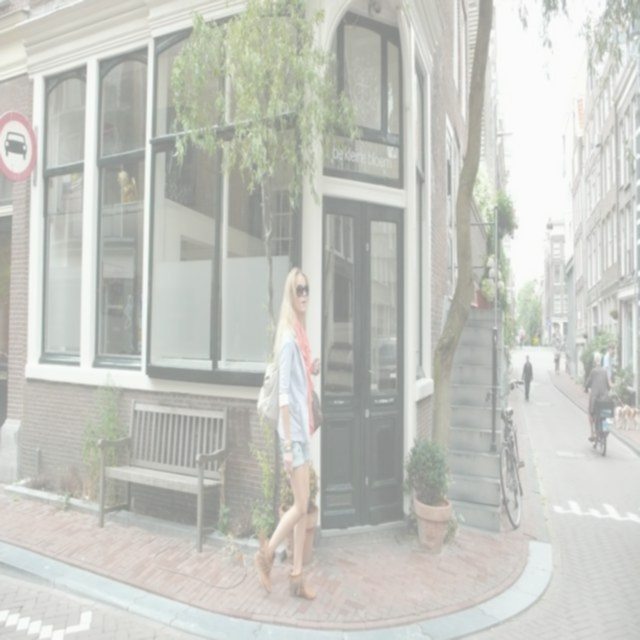pessoa: (252, 264, 326, 602), (582, 351, 612, 443), (520, 354, 534, 402), (603, 342, 615, 392), (553, 343, 561, 375), (518, 324, 526, 350), (522, 327, 526, 347), (537, 324, 541, 342)
